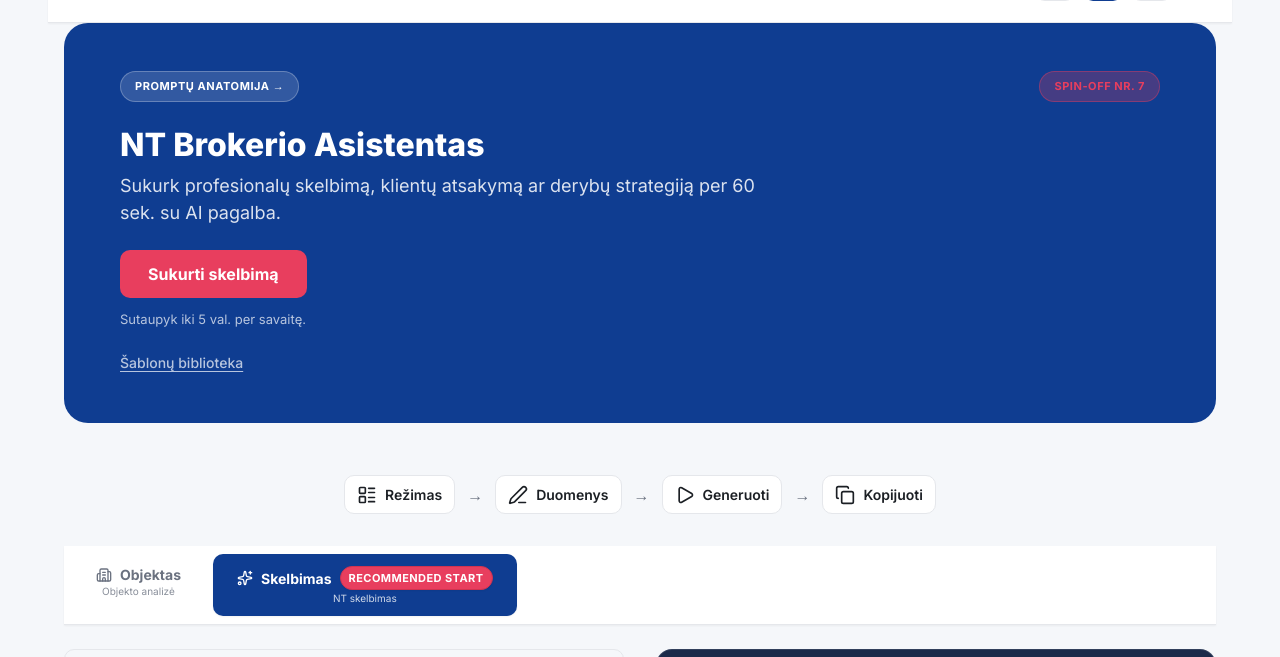
App › shows character count after generation
expect the heading "NT Brokerio Asistentas" is shown: met, box [120,124,484,164]
Click the button with test id "cta-generate": (213, 274) [120,250,307,298]
(page scrolled)
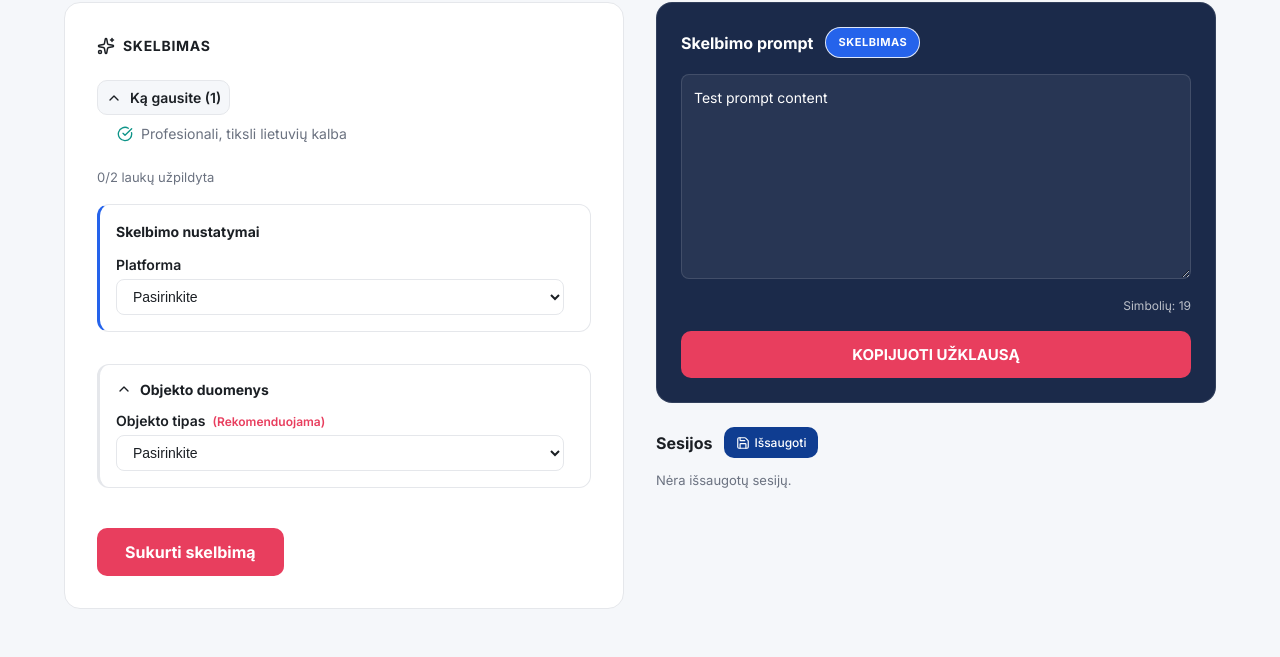
expect the text "Simbolių: 19" is shown: met, box [1123,297,1191,315]
expect the text with class "char-count" reads "Simbolių: 19": met, box [1123,298,1191,313]
